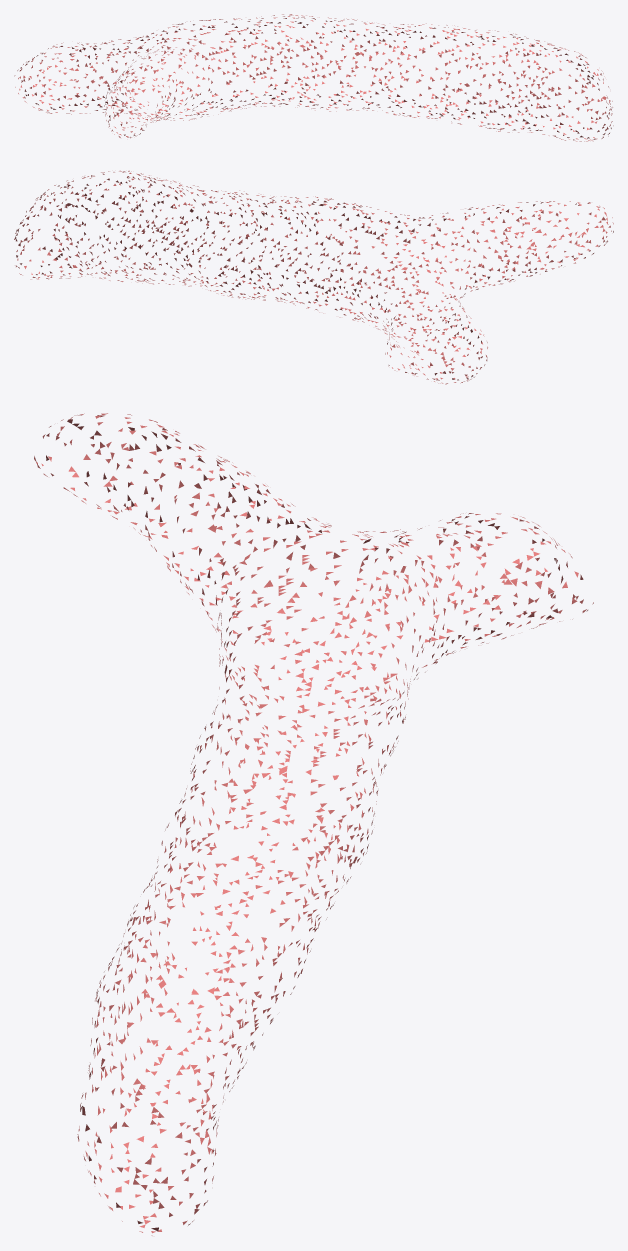
File: morph_000.glb
3 renders of one model, top to bottom at view 1: azimuth 30°, elevation 25°; view 2: azimuth 150°, elevation 25°; view 3: azimuth 270°, elevation 25°, orthographic. The views are drawn at different scales.
Bounding box in the file's own units: 112 × 36.63 × 52.6.
